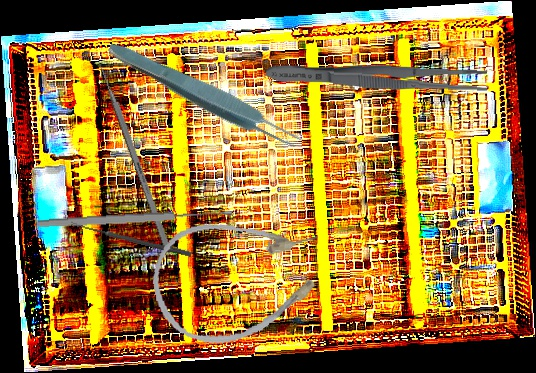Cannula: (144, 205, 334, 354)
Dressing Forceps: (265, 58, 488, 95)
Pusher: (92, 49, 171, 249)
Surgical Spoon: (37, 207, 233, 230), (70, 221, 192, 257)
Tissue Forceps: (103, 34, 307, 158)
